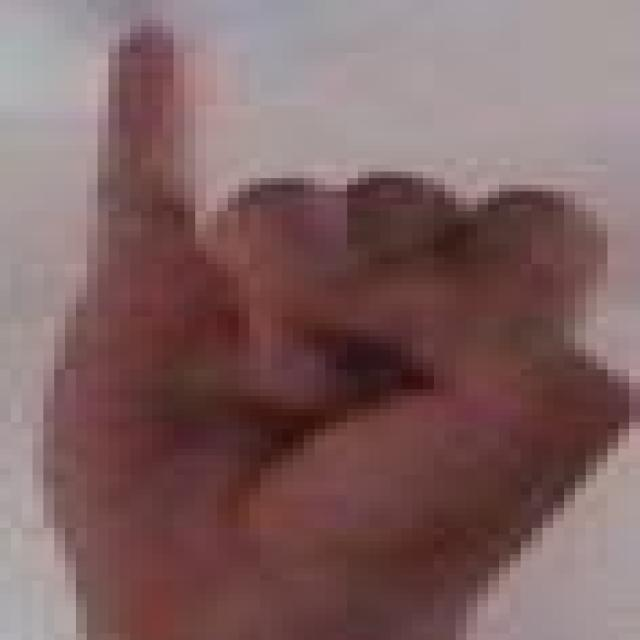I: (29, 20, 634, 606)
